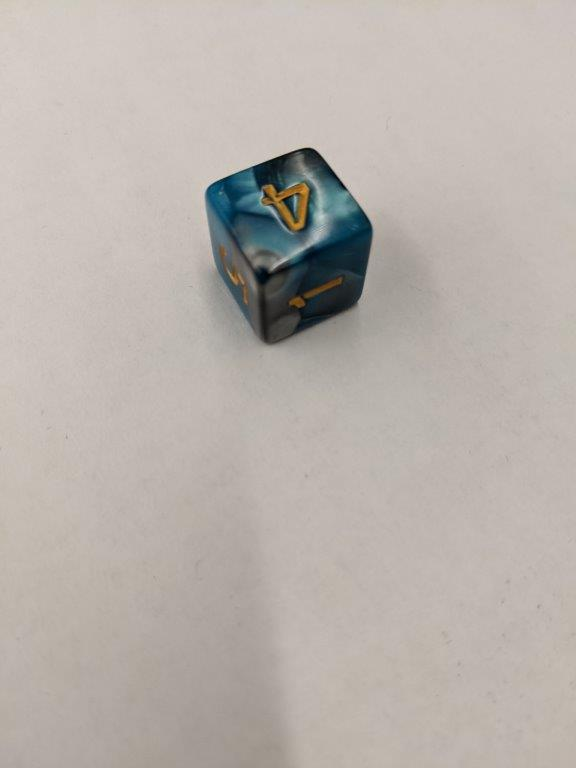d6-4: (203, 146, 374, 345)
